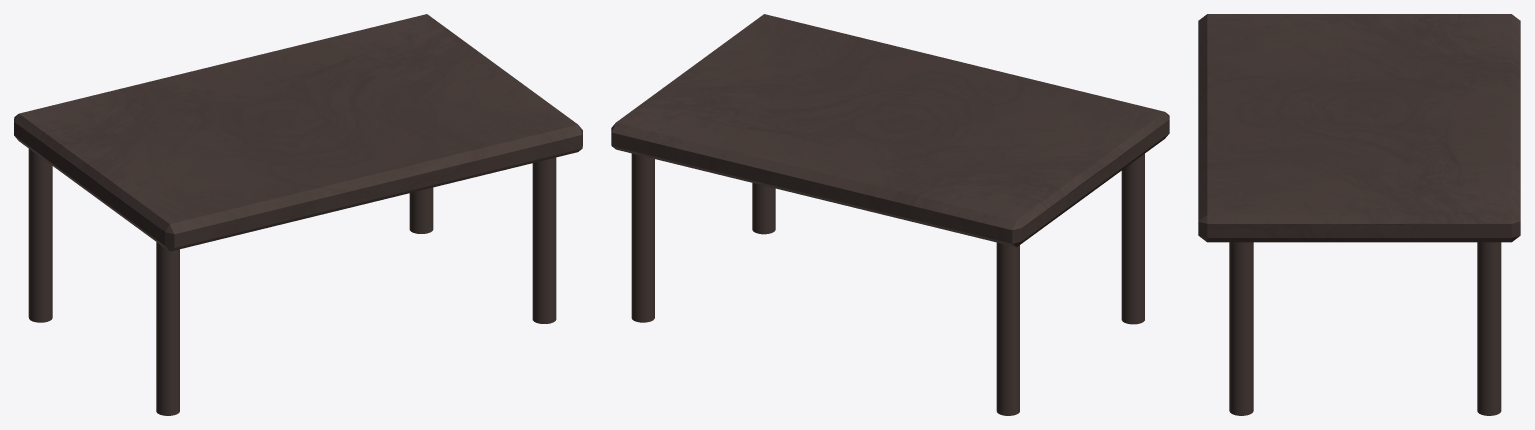
File: table.fbx
3 views of the same model, side by side, from view 1: azimuth 30°, elevation 25°; view 2: azimuth 150°, elevation 25°; view 3: azimuth 270°, elevation 25° (orthographic). The views are drawn at different scales.
Visible parts, largest first — view 1: Table; view 2: Table; view 3: Table.
Boxes of the visible parts, x1,y1,x2,y2 form: Table: [14, 14, 582, 415]; Table: [611, 14, 1169, 415]; Table: [1198, 14, 1520, 415].
Size of the model in its own units: 8.64 by 4.01 by 5.73.
